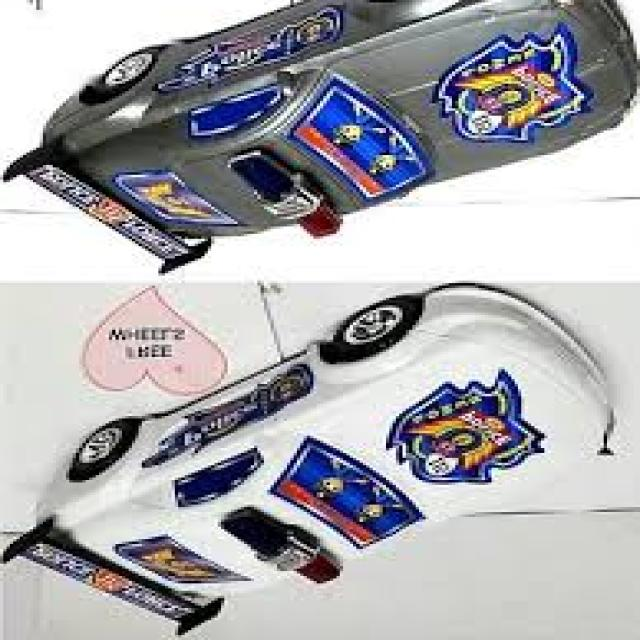Car: (0, 286, 636, 640), (0, 2, 637, 276)
